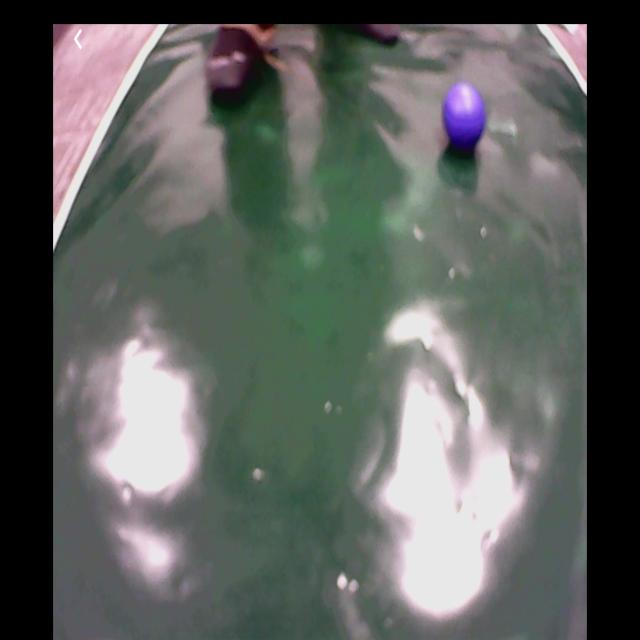ball: (443, 82, 487, 149)
